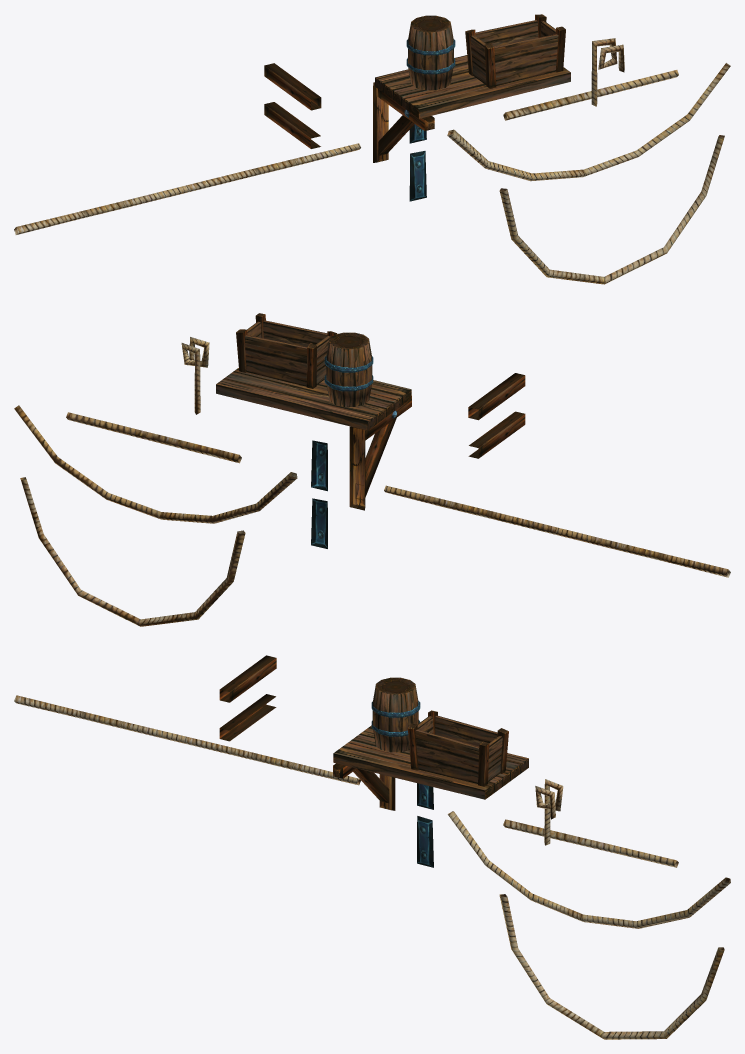
Rendered from woodBrace.fbx.
3 renders of one model, top to bottom at view 1: azimuth 30°, elevation 25°; view 2: azimuth 150°, elevation 25°; view 3: azimuth 330°, elevation 25°, orthographic.
Visible parts, largest first — view 1: trough, plank, keg, rope, rope2, rope1, rope3, crossbeam2, crossbeam, rope4, brace, joint2 (+2 smaller); view 2: plank, trough, keg, rope, rope2, rope1, rope3, brace, crossbeam2, crossbeam, rope4, crossbar (+2 smaller); view 3: trough, plank, keg, rope, rope2, rope1, rope3, crossbeam2, crossbeam, rope4, joint2.
Boxes of the visible parts, x1,y1,x2,y2 form: trough: (465, 14, 565, 88); plank: (375, 55, 570, 118); keg: (406, 15, 455, 90); rope: (14, 143, 360, 234); rope2: (499, 135, 724, 284); rope1: (447, 63, 730, 181); rope3: (503, 70, 678, 120); crossbeam2: (264, 63, 321, 110); crossbeam: (264, 102, 320, 148); rope4: (591, 38, 624, 106); brace: (373, 82, 388, 162); joint2: (409, 151, 426, 201); plank: (216, 368, 411, 430); trough: (236, 313, 337, 388); keg: (324, 332, 373, 406); rope: (384, 485, 730, 577); rope2: (20, 477, 245, 626); rope1: (14, 405, 297, 523); rope3: (66, 412, 241, 463); brace: (349, 426, 365, 510); crossbeam2: (468, 373, 525, 420); crossbeam: (468, 411, 525, 458); rope4: (181, 337, 209, 414); crossbar: (355, 418, 396, 500); trough: (407, 710, 508, 786); plank: (333, 725, 528, 799); keg: (371, 677, 420, 752); rope: (14, 695, 360, 785); rope2: (499, 894, 724, 1039); rope1: (447, 811, 730, 928); rope3: (503, 819, 678, 867); crossbeam2: (219, 655, 276, 702); crossbeam: (219, 694, 276, 741); rope4: (535, 779, 563, 845); joint2: (417, 816, 433, 867).
Bounding box in the file's own units: 387 × 166 × 47.77.
